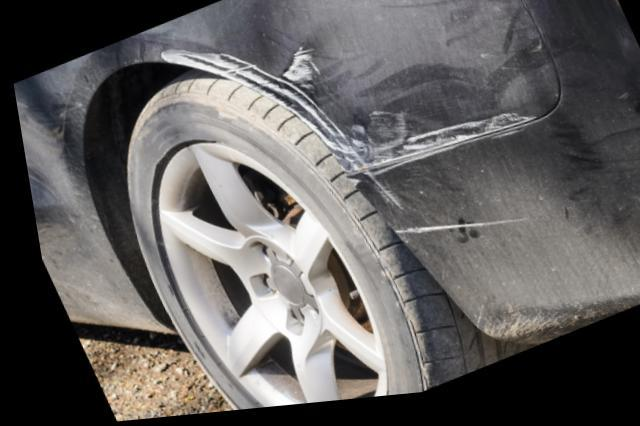scratch: (158, 48, 539, 179), (357, 157, 446, 215), (385, 226, 533, 245)
